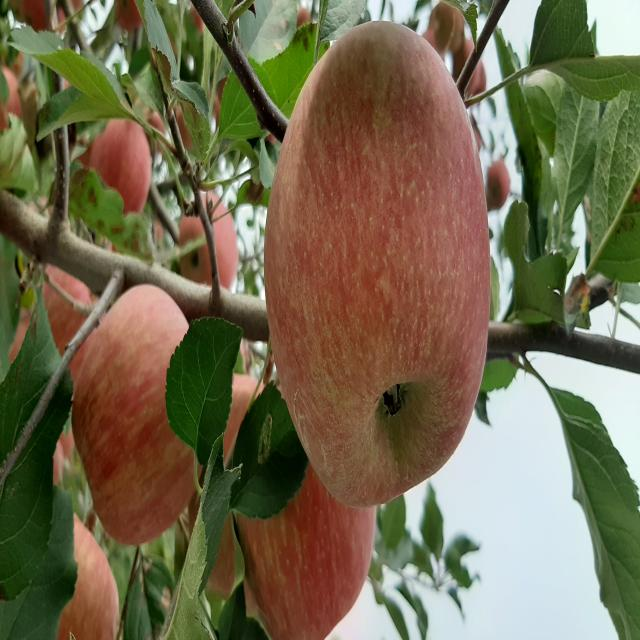fresh: (262, 17, 497, 512)
